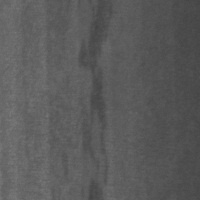inclusion: (75, 1, 119, 198)
